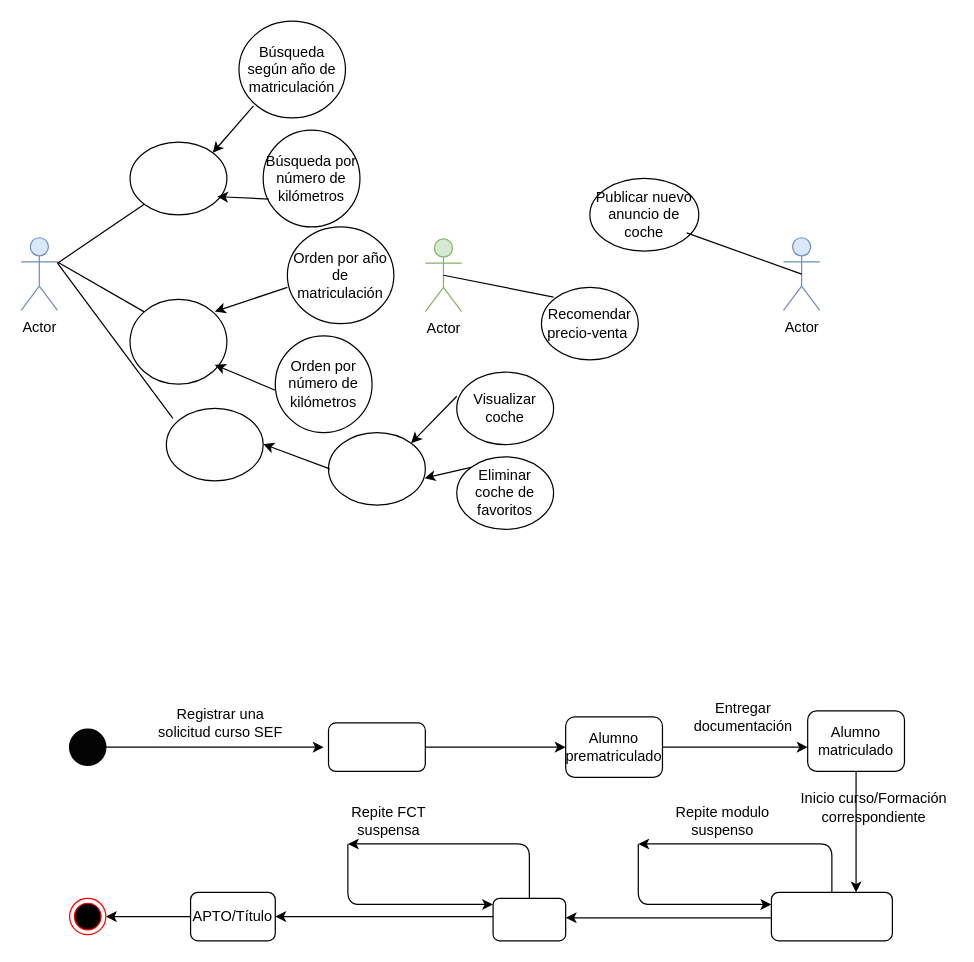
The diagram is 974 pixels wide and 962 high, and some of its shapes have lost their labels. The box of each missing label's shape, as (x1, y1, x2, y2) in pixels:
Aprobar todos los módulos: (770, 891, 892, 941)
Añadir coche a favoritos: (327, 431, 425, 505)
FCT: (492, 897, 566, 941)
Ordenar resultados: (129, 298, 227, 384)
Realizar una búsqueda de un coche: (129, 141, 227, 215)
Seleccionar coche: (165, 407, 263, 481)
Solicitud aprobada: (327, 722, 425, 771)
